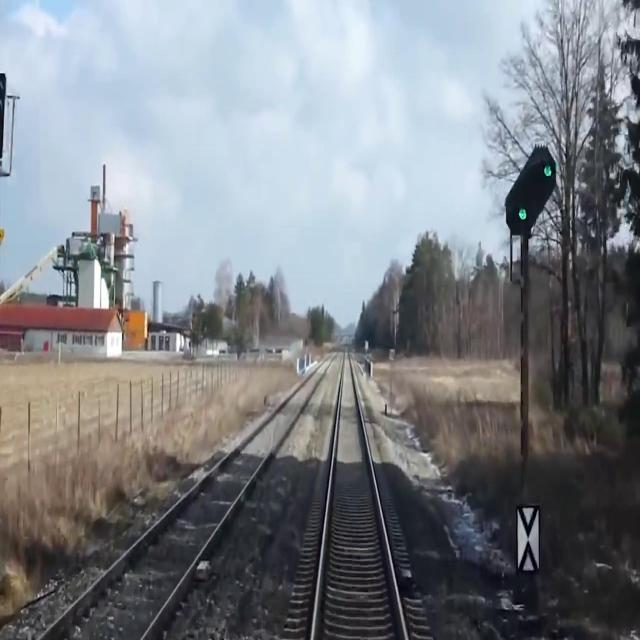rail-track: (44, 360, 328, 639), (315, 347, 404, 639)
